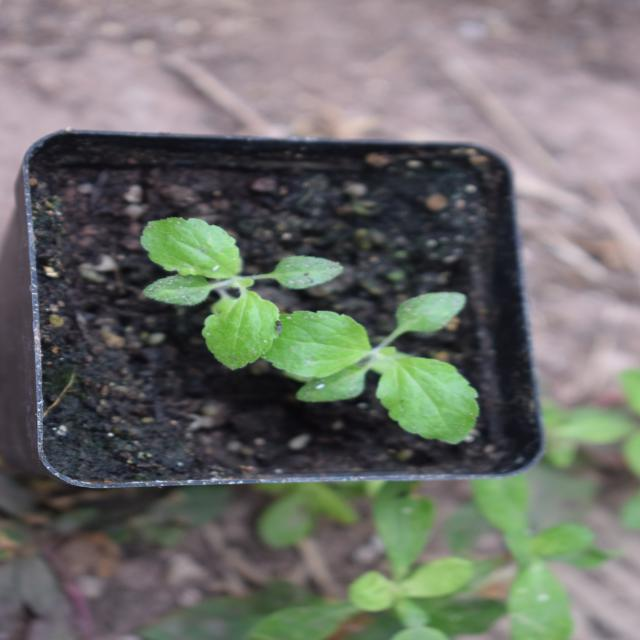billygoat_weed: (291, 153, 444, 370), (206, 320, 368, 518)
